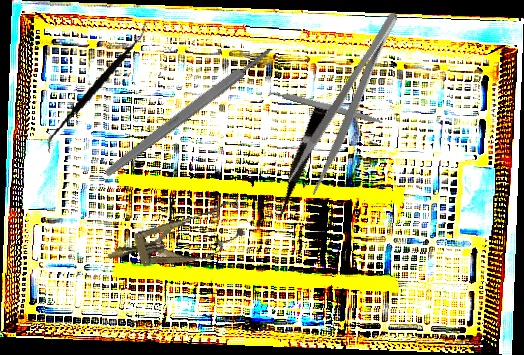Dressing Forceps: (284, 8, 418, 198)
Micro Scissor: (268, 100, 330, 226)
Scalpel Handle: (102, 44, 275, 180), (266, 86, 385, 126)
Spatula Surgical: (46, 11, 148, 164)
Speculum: (101, 196, 251, 283)
